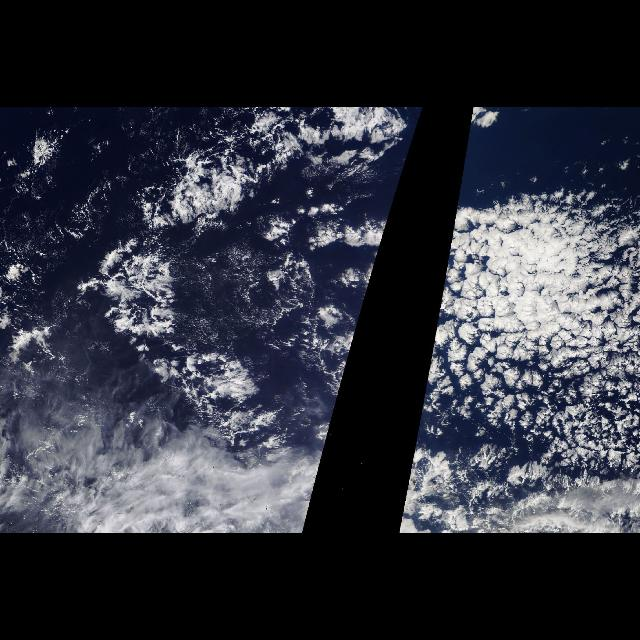Flower: (96, 165, 404, 489), (405, 165, 639, 489)
